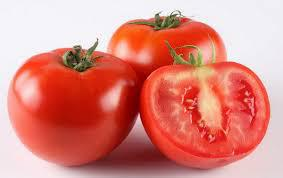tomato: (7, 48, 140, 167), (110, 16, 228, 102)
